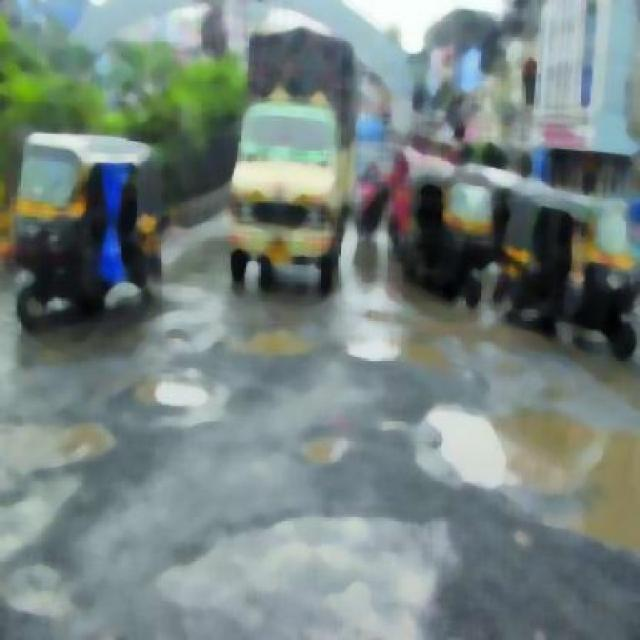Pothole: (0, 404, 105, 482), (126, 368, 217, 435), (208, 322, 329, 364)
